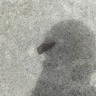Dog: (36, 42, 56, 53)
